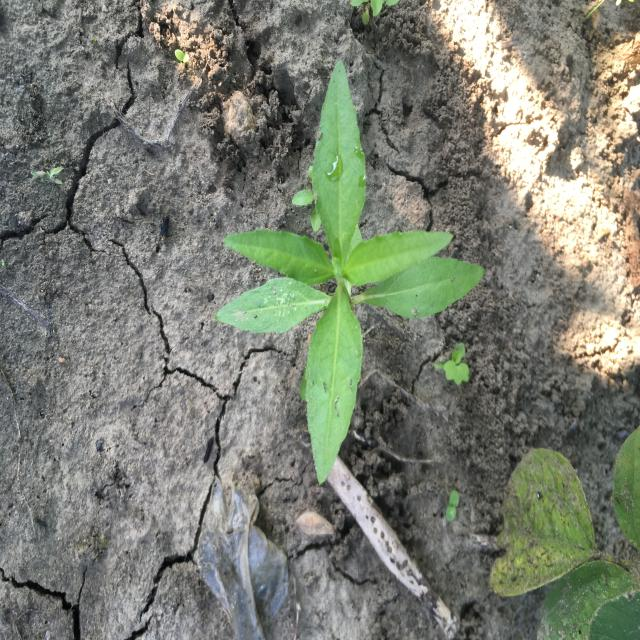Eclipta: (214, 54, 487, 488)
